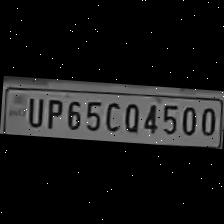0: (196, 103, 218, 136), (176, 102, 197, 136)
4: (139, 100, 158, 136)
5: (80, 96, 102, 132), (157, 100, 178, 136)
6: (62, 96, 82, 130)
C: (101, 97, 121, 132)
P: (42, 94, 62, 130)
Q: (118, 99, 140, 134)
U: (21, 94, 43, 128)
